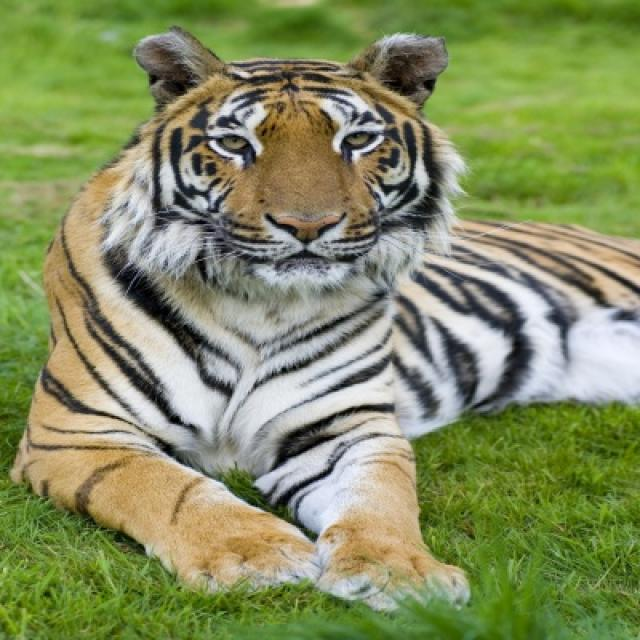Tiger: (11, 29, 638, 608)
